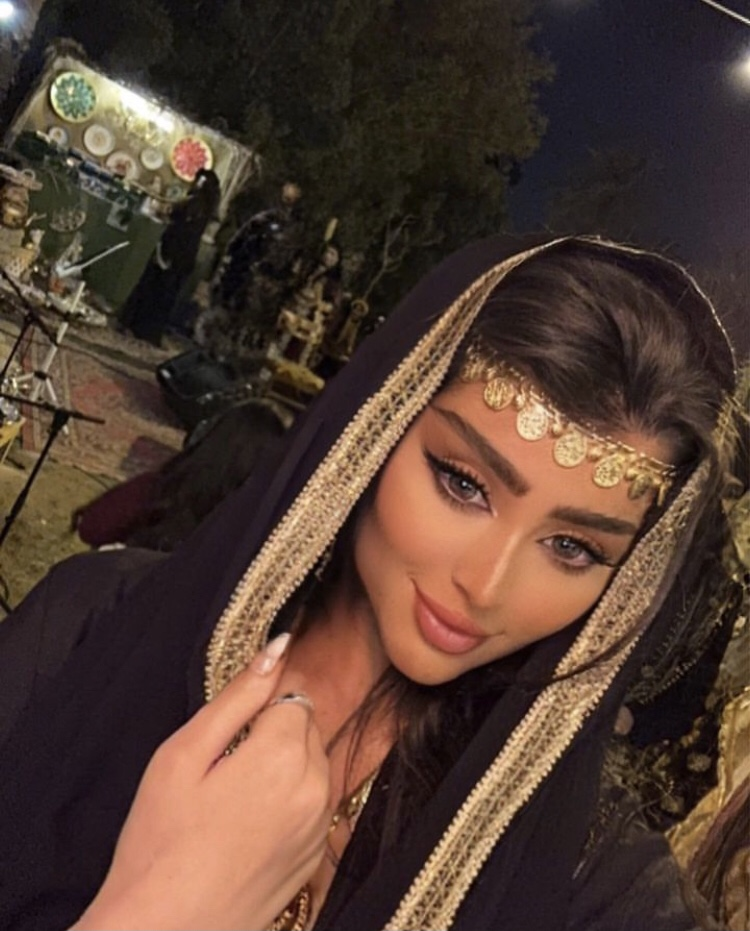Saudi_Founding_Day: (5, 229, 738, 931)
